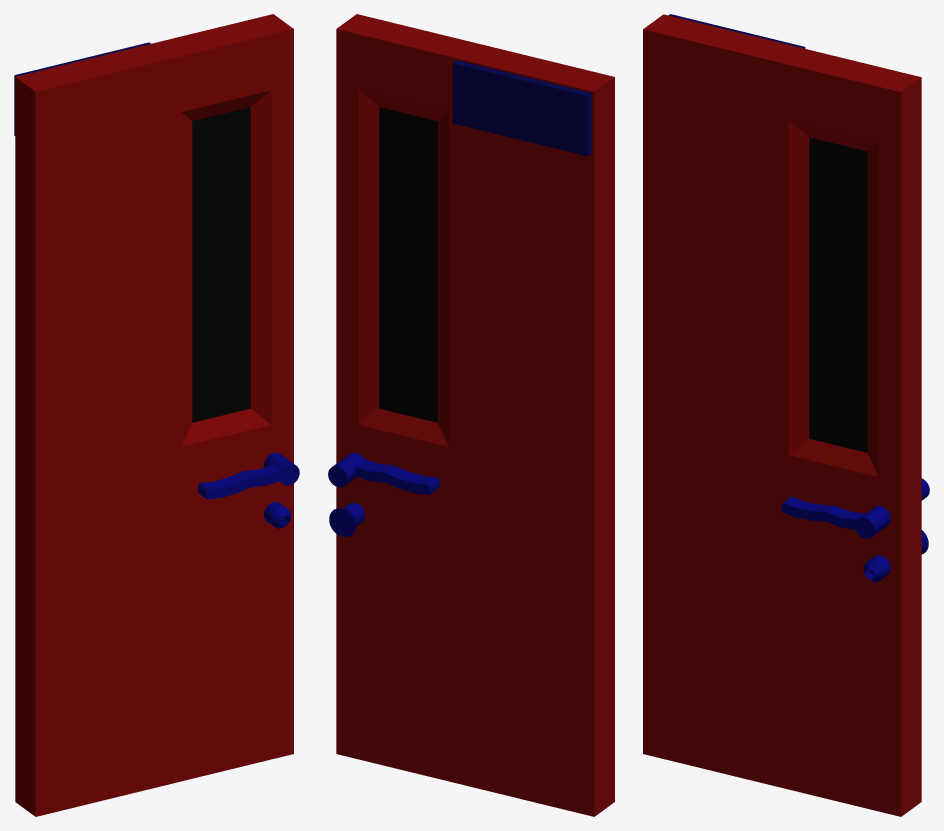
Rendered from door med low poly.fbx.
3 renders of one model, left to right at view 1: azimuth 30°, elevation 25°; view 2: azimuth 150°, elevation 25°; view 3: azimuth 330°, elevation 25°, orthographic.
Visible parts, largest first — view 1: TextPlus001; view 2: TextPlus001; view 3: TextPlus001.
Part boxes in pixels (x1,y1,x2,y2): TextPlus001: (14, 14, 299, 816); TextPlus001: (328, 14, 614, 816); TextPlus001: (643, 14, 929, 816).
Size of the model in its own units: 52.16 by 140 by 19.3.
